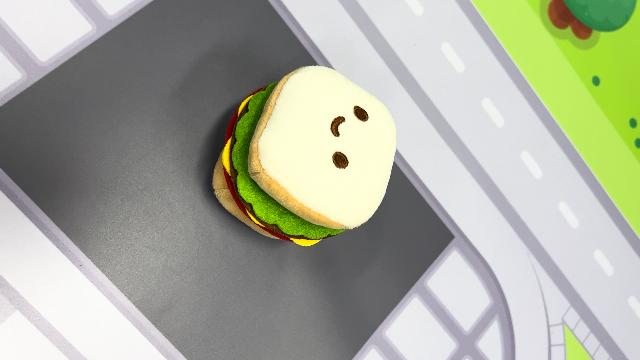sandwich: (210, 63, 400, 248)
